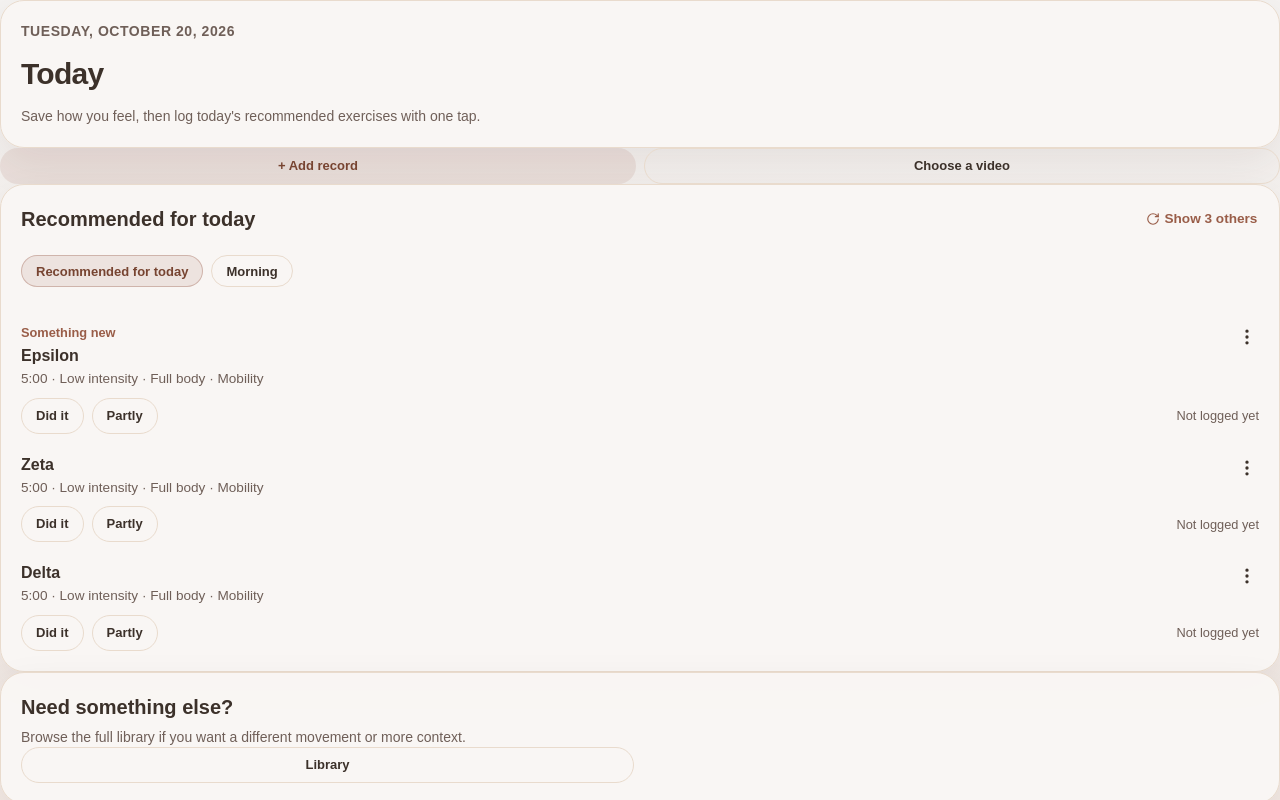
it: switching to a set shows all its videos in order without slot labels or reshuffle
The image size is (1280, 800).
Click the button "Morning" at (252, 271), box 211,255 -> 293,287
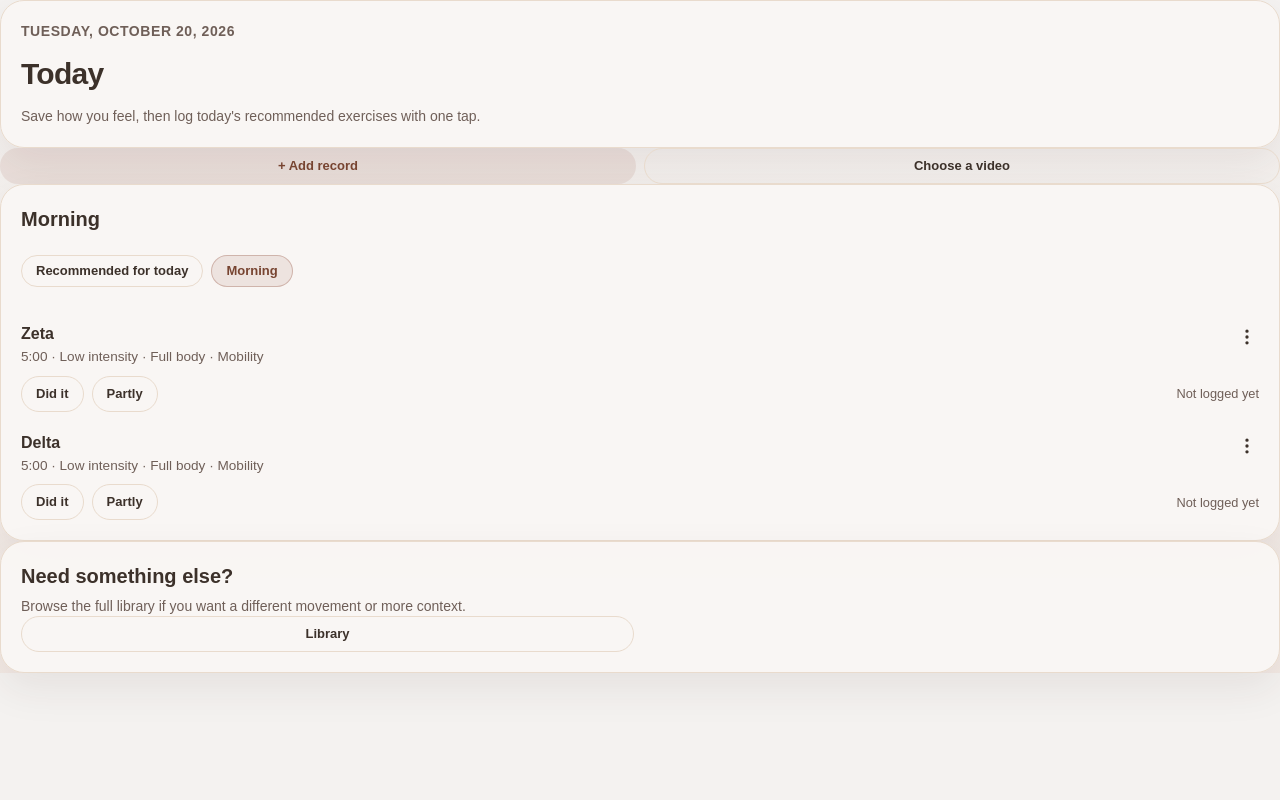
Expected: the heading "Morning" is shown, 21,205 -> 100,233
Expected: the headings read "Zeta", "Delta", in this order, 21,325 -> 54,342; 21,434 -> 60,451
Expected: the button "Show 3 others" is gone
